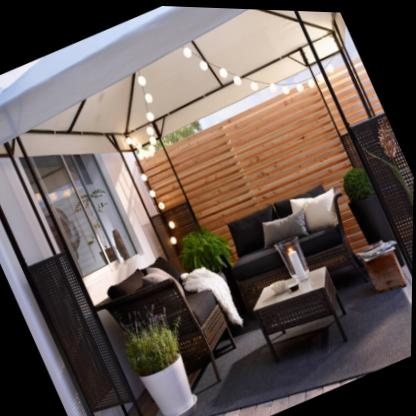Table: (242, 254, 365, 375)
